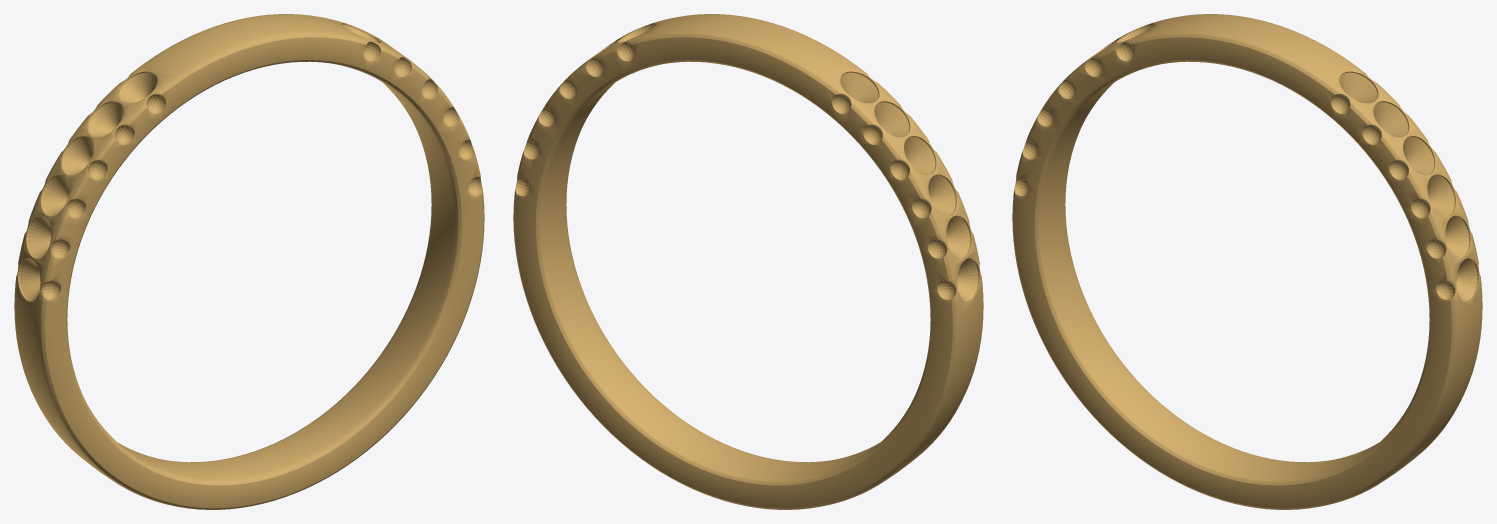
Rendered from soft-square-scalloped-u-cut.glb.
The picture shows the model from 3 angles, left to right: view 1: azimuth 30°, elevation 25°; view 2: azimuth 150°, elevation 25°; view 3: azimuth 330°, elevation 25°; orthographic projection.
Parts seen in each view (by area): view 1: Band; view 2: Band; view 3: Band.
Boxes of the visible parts, x1,y1,x2,y2 form: Band: (14,14,484,509); Band: (513,14,983,509); Band: (1012,14,1482,509).
Bounding box in the file's own units: 19.6 × 19.6 × 2.3.
